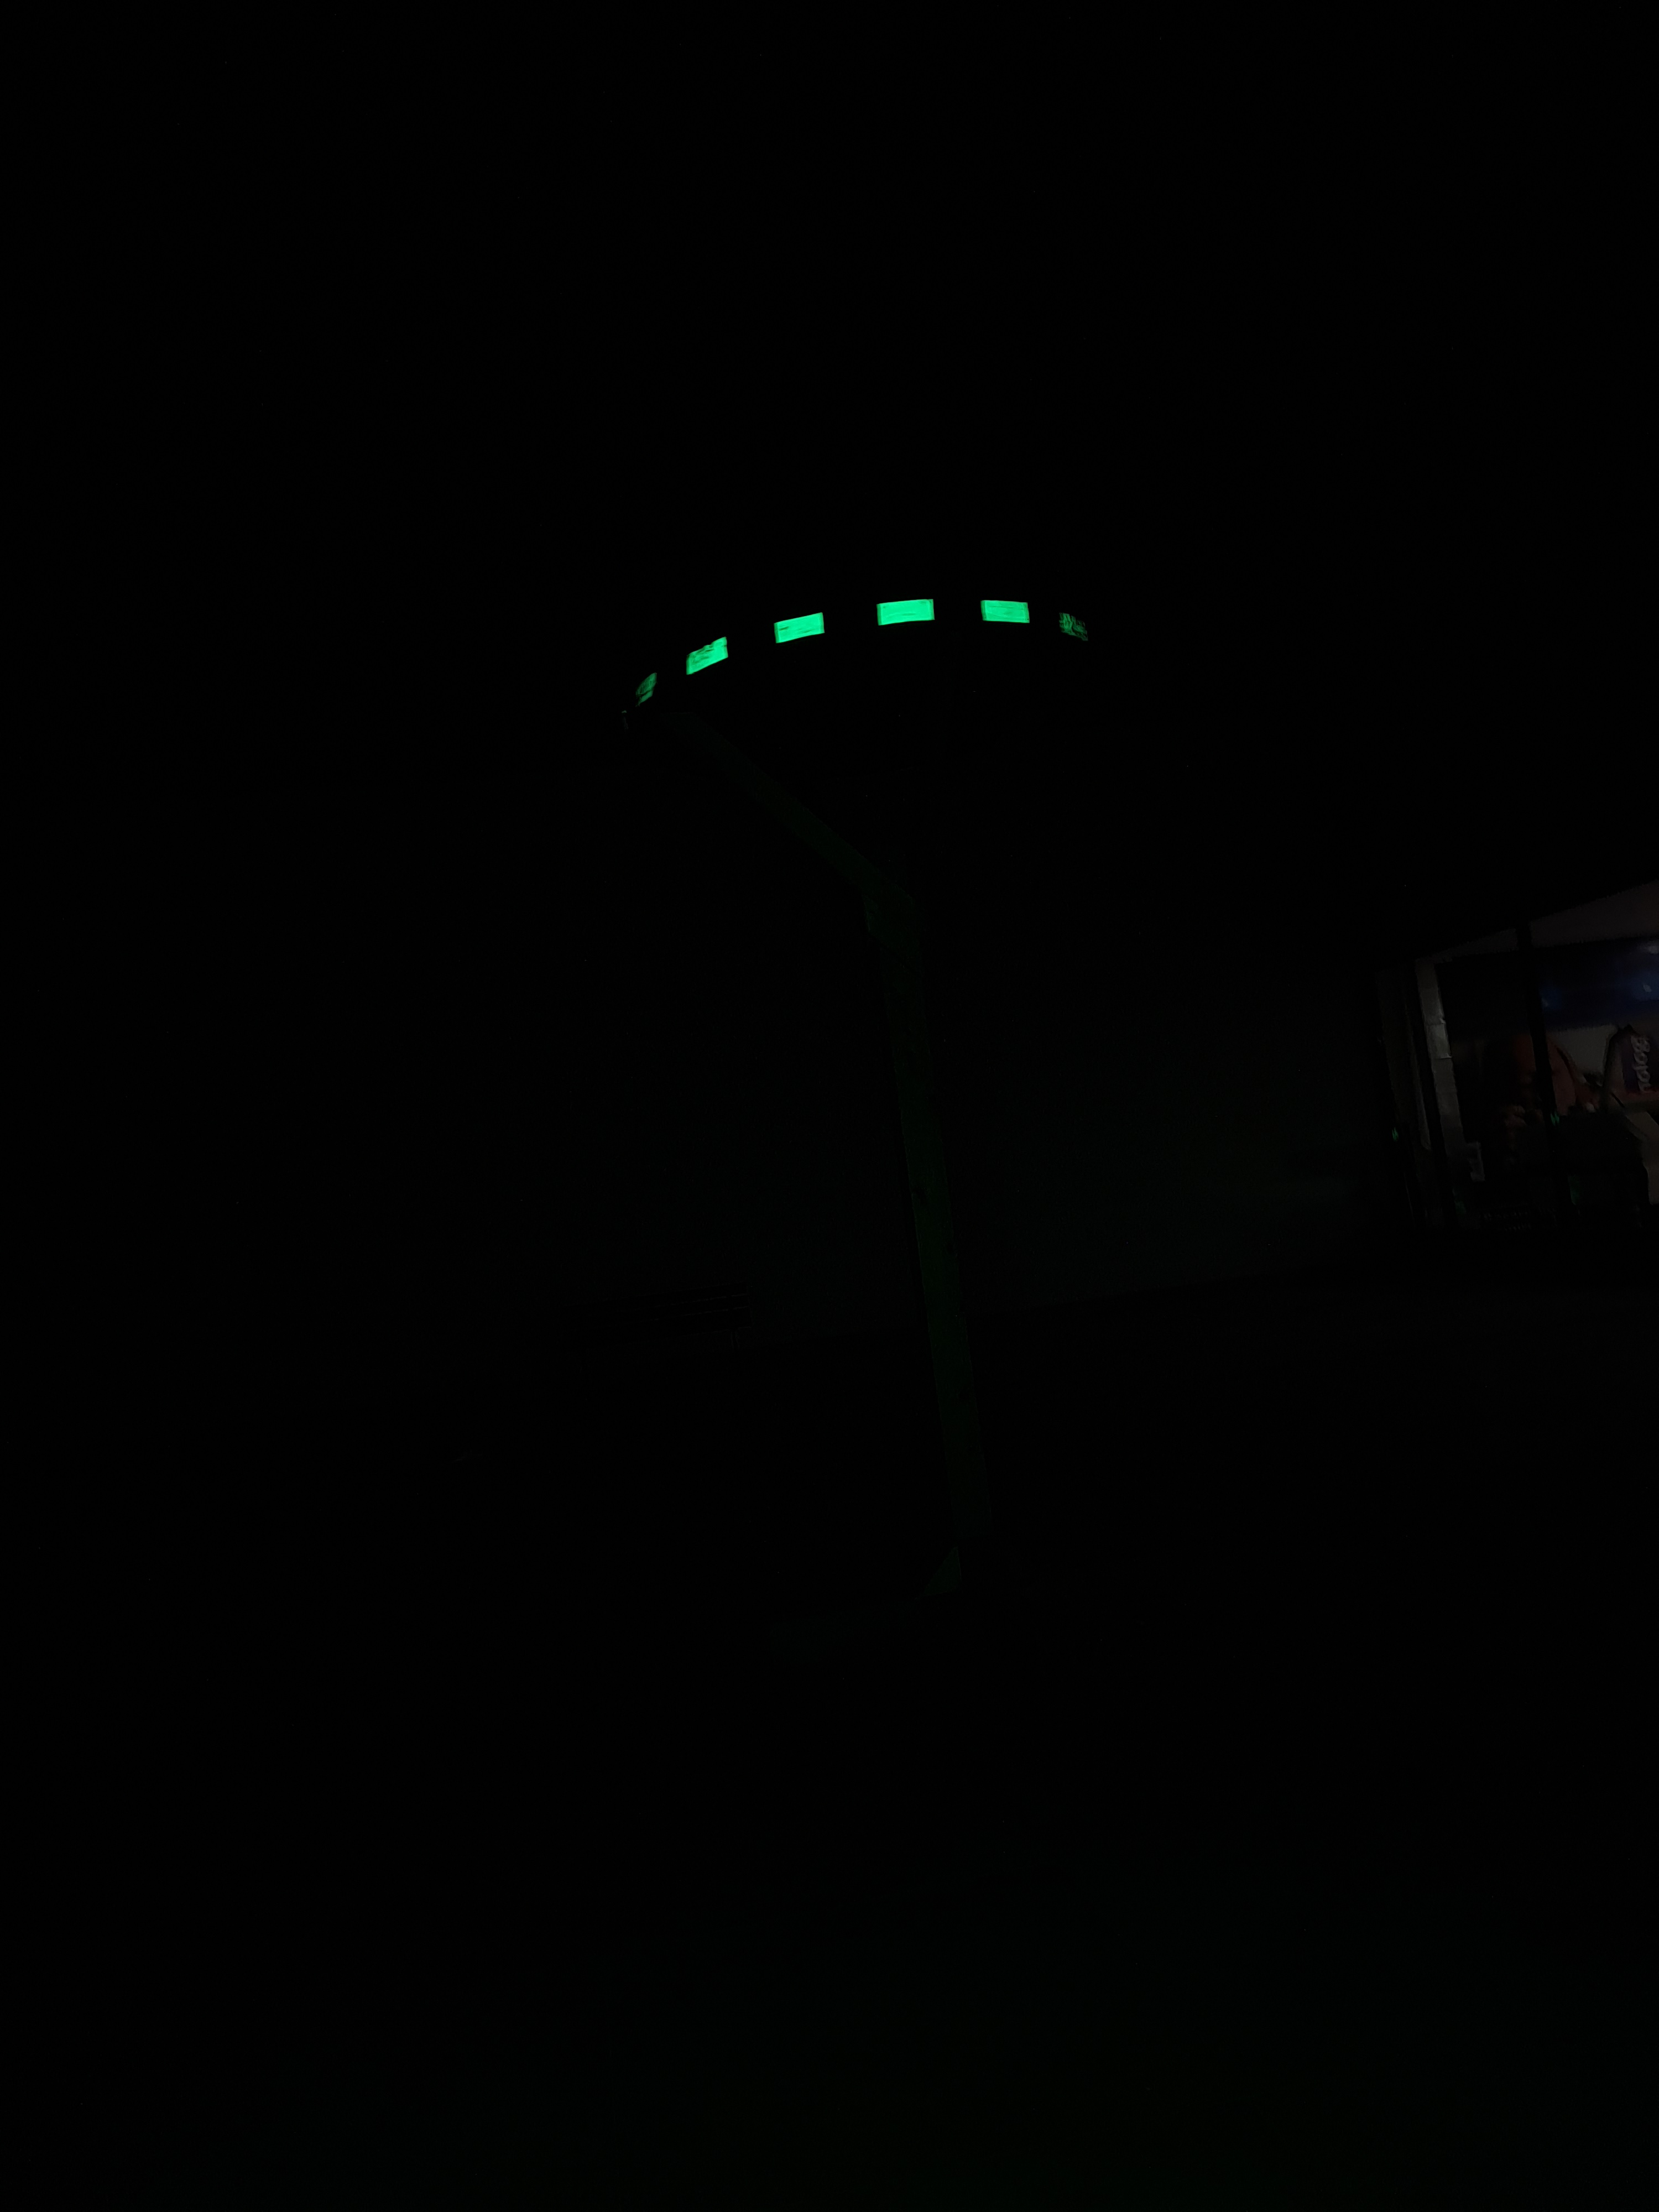hoop: (619, 577, 1107, 723)
